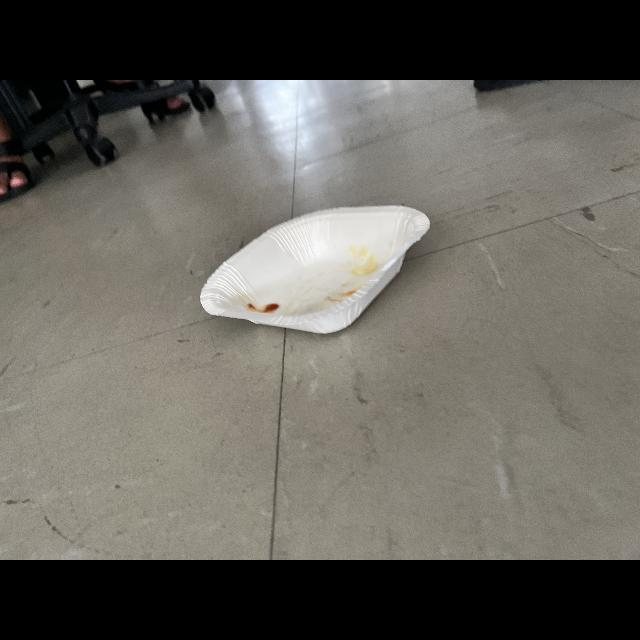cardboard_bowl: (186, 200, 436, 342)
